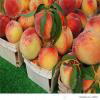Peach leaf: (51, 56, 80, 80), (49, 2, 68, 29), (16, 3, 46, 19), (40, 10, 52, 48), (54, 8, 63, 46), (69, 65, 77, 90), (86, 65, 96, 77)
